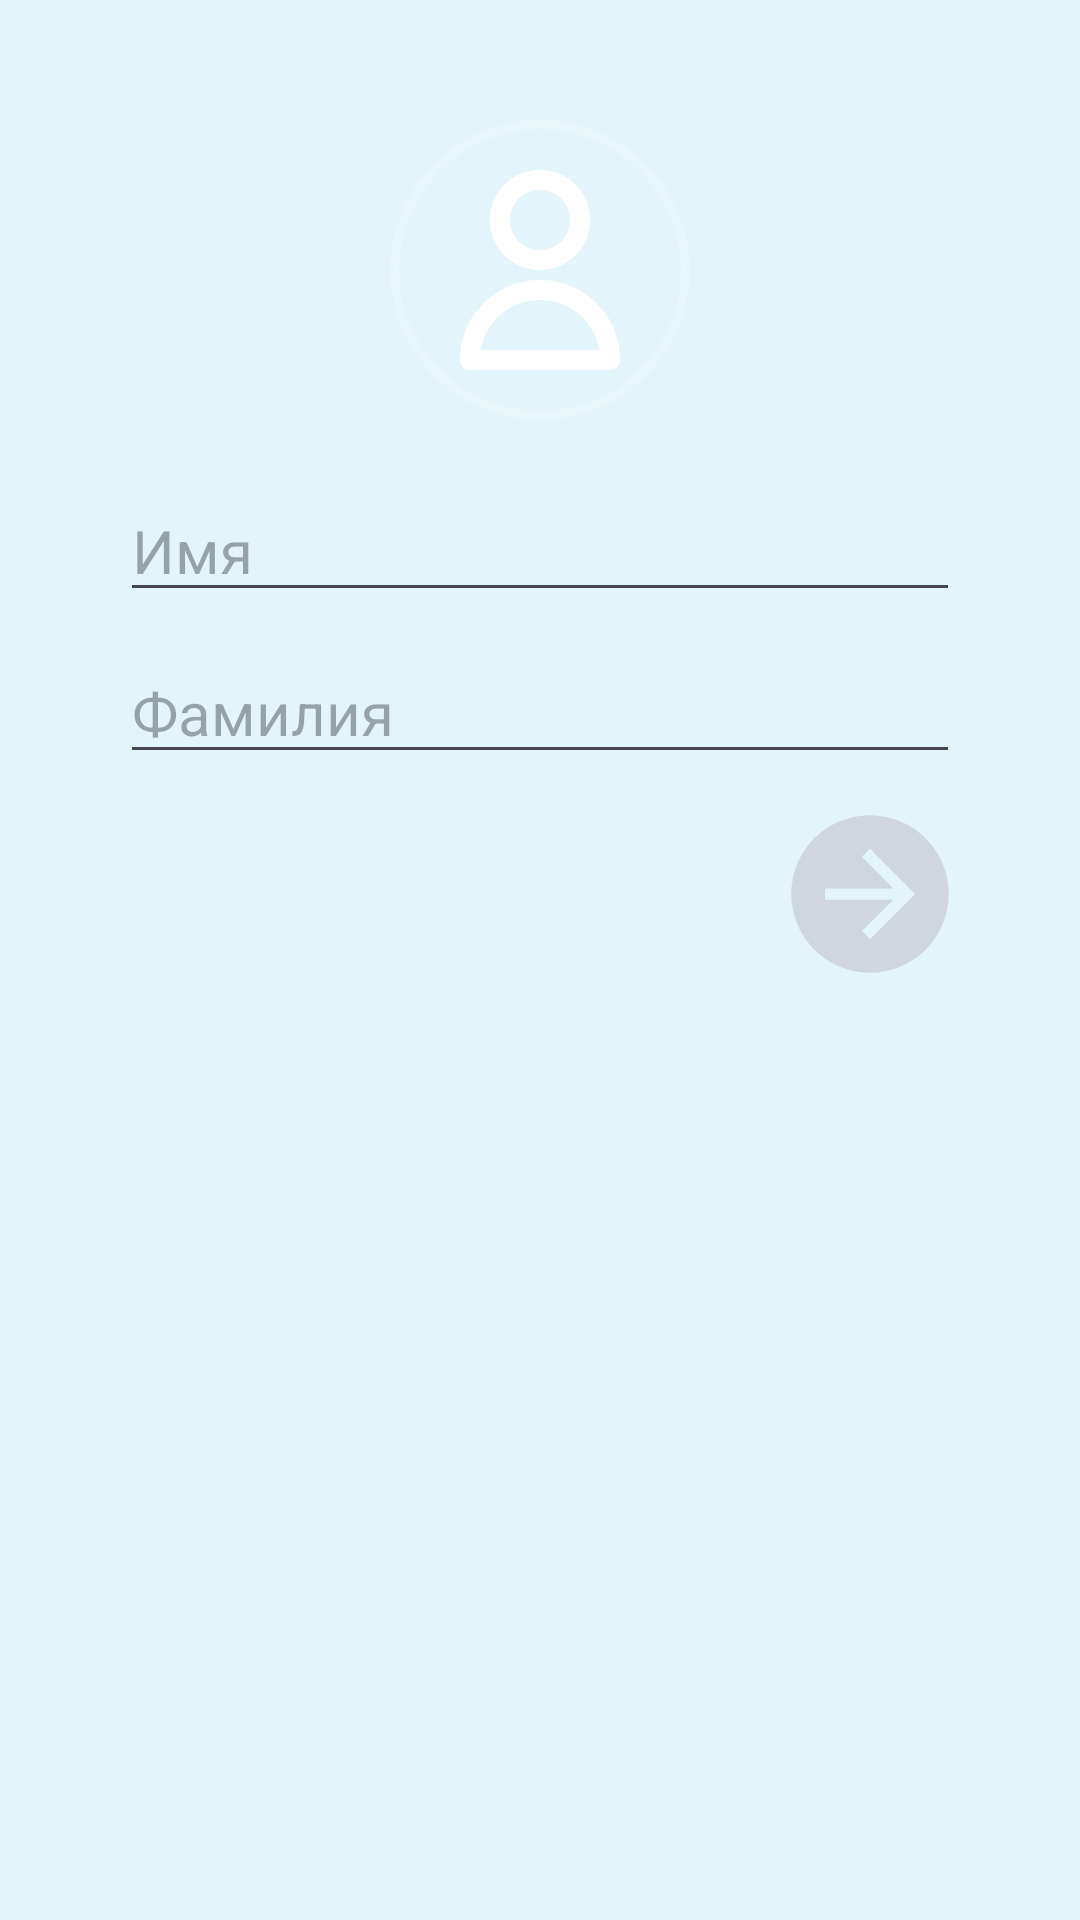

Where icons sit on this 1080 x 1920 app screen, as (x1, y1, x2, y2):
next: (792, 816, 948, 972)
user picture: (460, 170, 620, 370)
